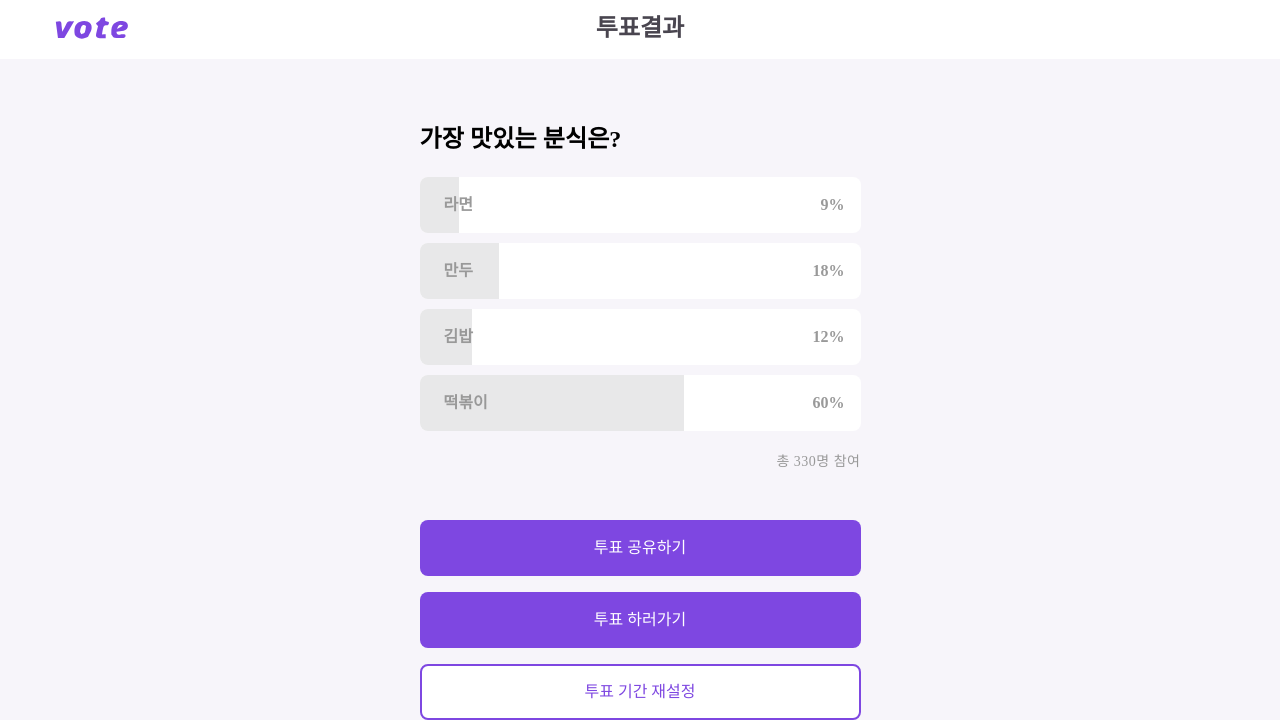
Test case: 투표결과 페이지를 테스트한다. › 시간선택을 테스트한다
(page scrolled)
# 재투표하기 버튼을 누른다.
Click the button with test id "revoteButton". click: (641, 692)
box: [420,664,861,719]
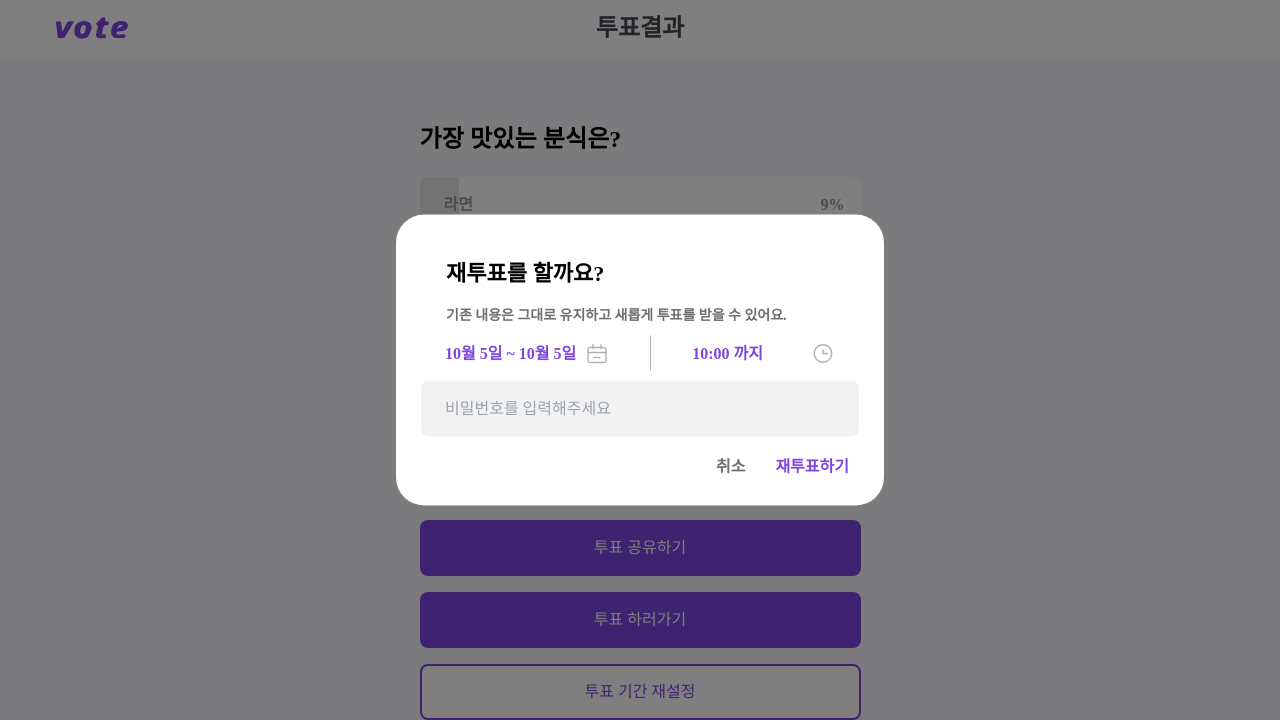
Result: the element with test id "revoteDialog" is shown at [421,240,859,481]
# 시간선택 버튼을 클릭한다.
Click the button with test id "timeButton". click: (764, 353)
box: [692,341,835,365]
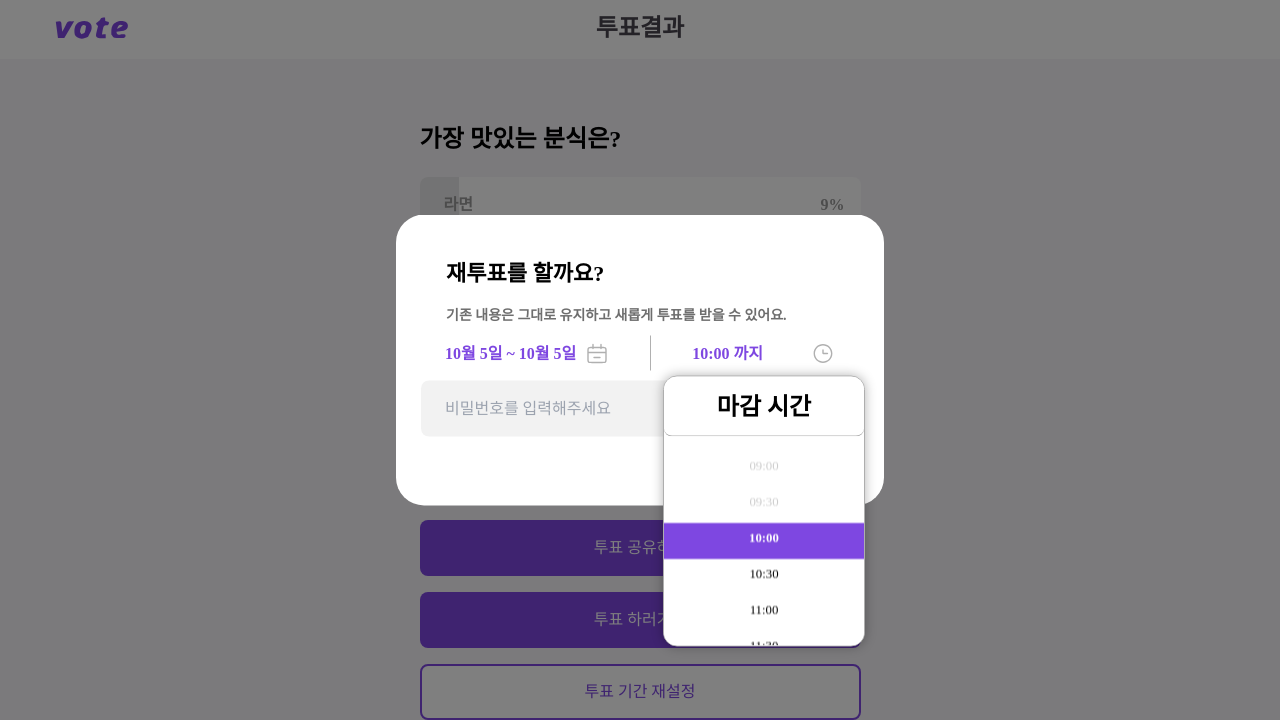
Result: the element with class "react-datepicker-popper" is shown at [663,376,865,647]
